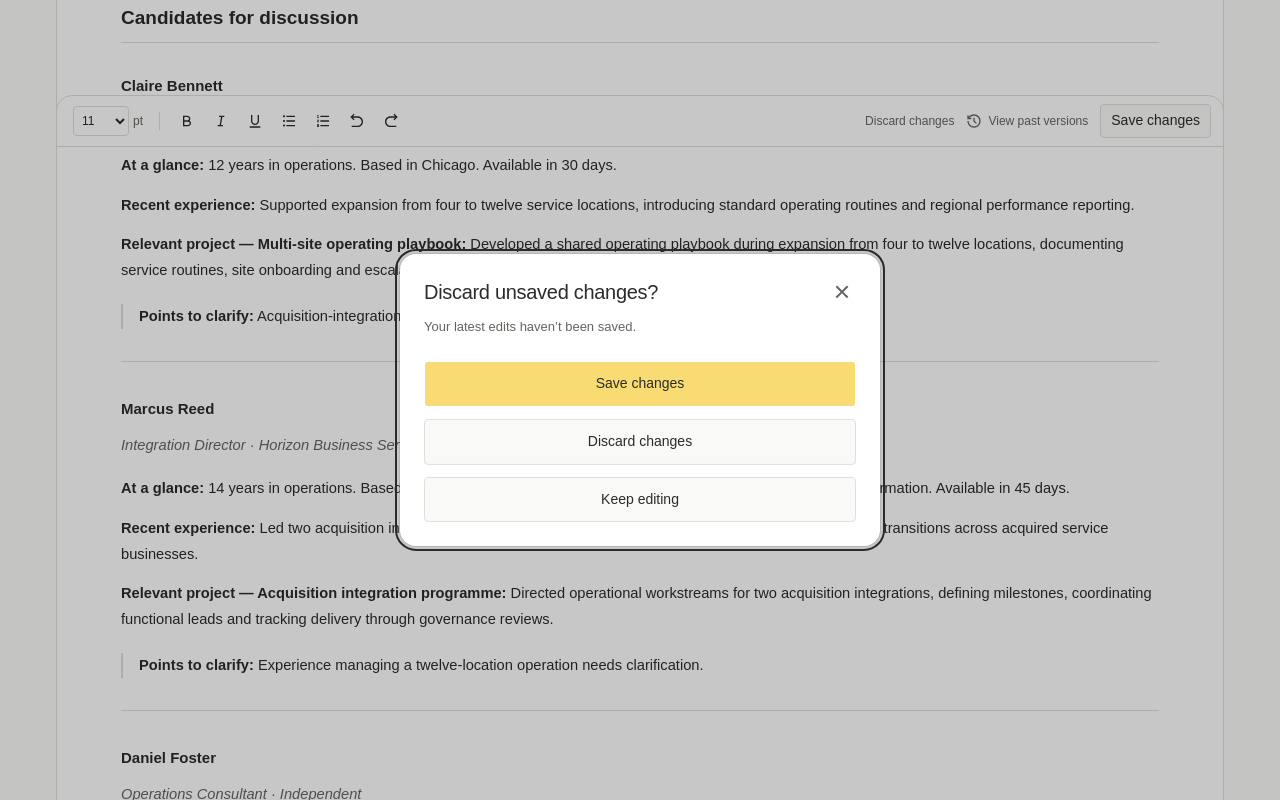
Test: inline discussion editor › retains unsaved text on blocked navigation and discards only when requested
The image size is (1280, 800).
Earlier steps of the test are not shown.
(page scrolled)
Click the button "Discard changes" at (640, 442), box x1=424 y1=419 x2=856 y2=464
(page scrolled)
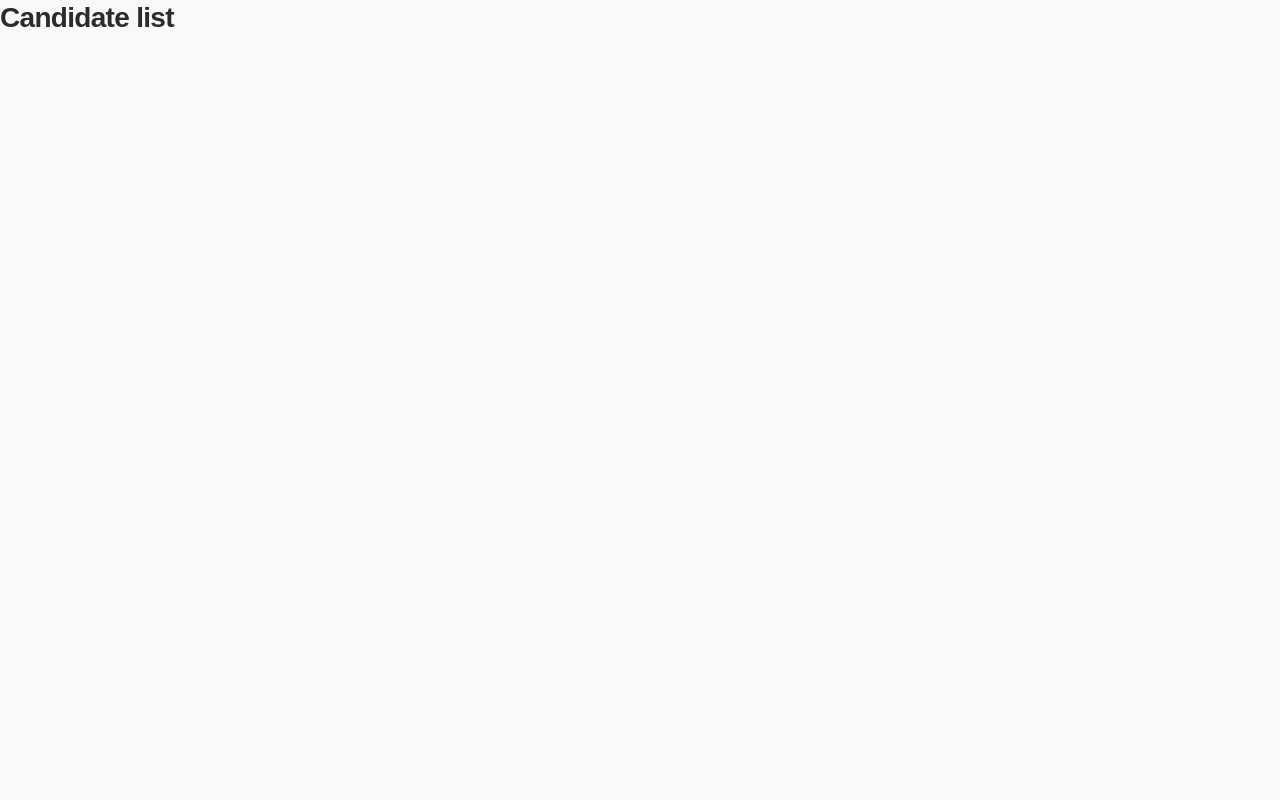
Result: the heading "Candidate list" is shown at x1=0 y1=2 x2=174 y2=33
